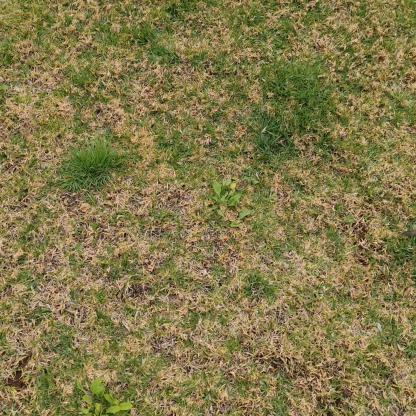Weeds: (76, 377, 134, 415), (213, 179, 251, 228)
